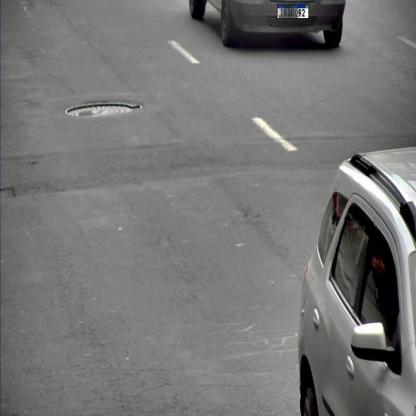PlacaM: (277, 4, 309, 19)
